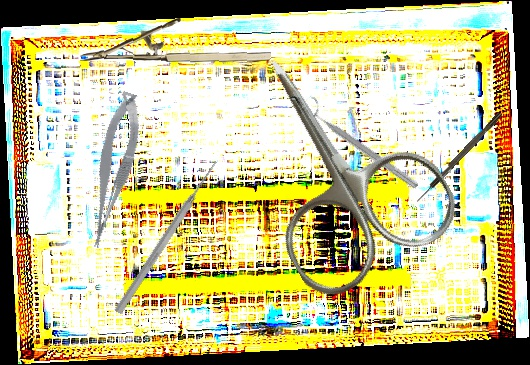Fixation Ring: (295, 92, 426, 193)
Hook Surgical: (414, 111, 504, 204)
Iris Scissors: (200, 16, 469, 308)
Micro Scissor: (71, 89, 154, 251)
Needle Holder: (80, 14, 272, 68)
Pusher: (112, 158, 222, 316)
